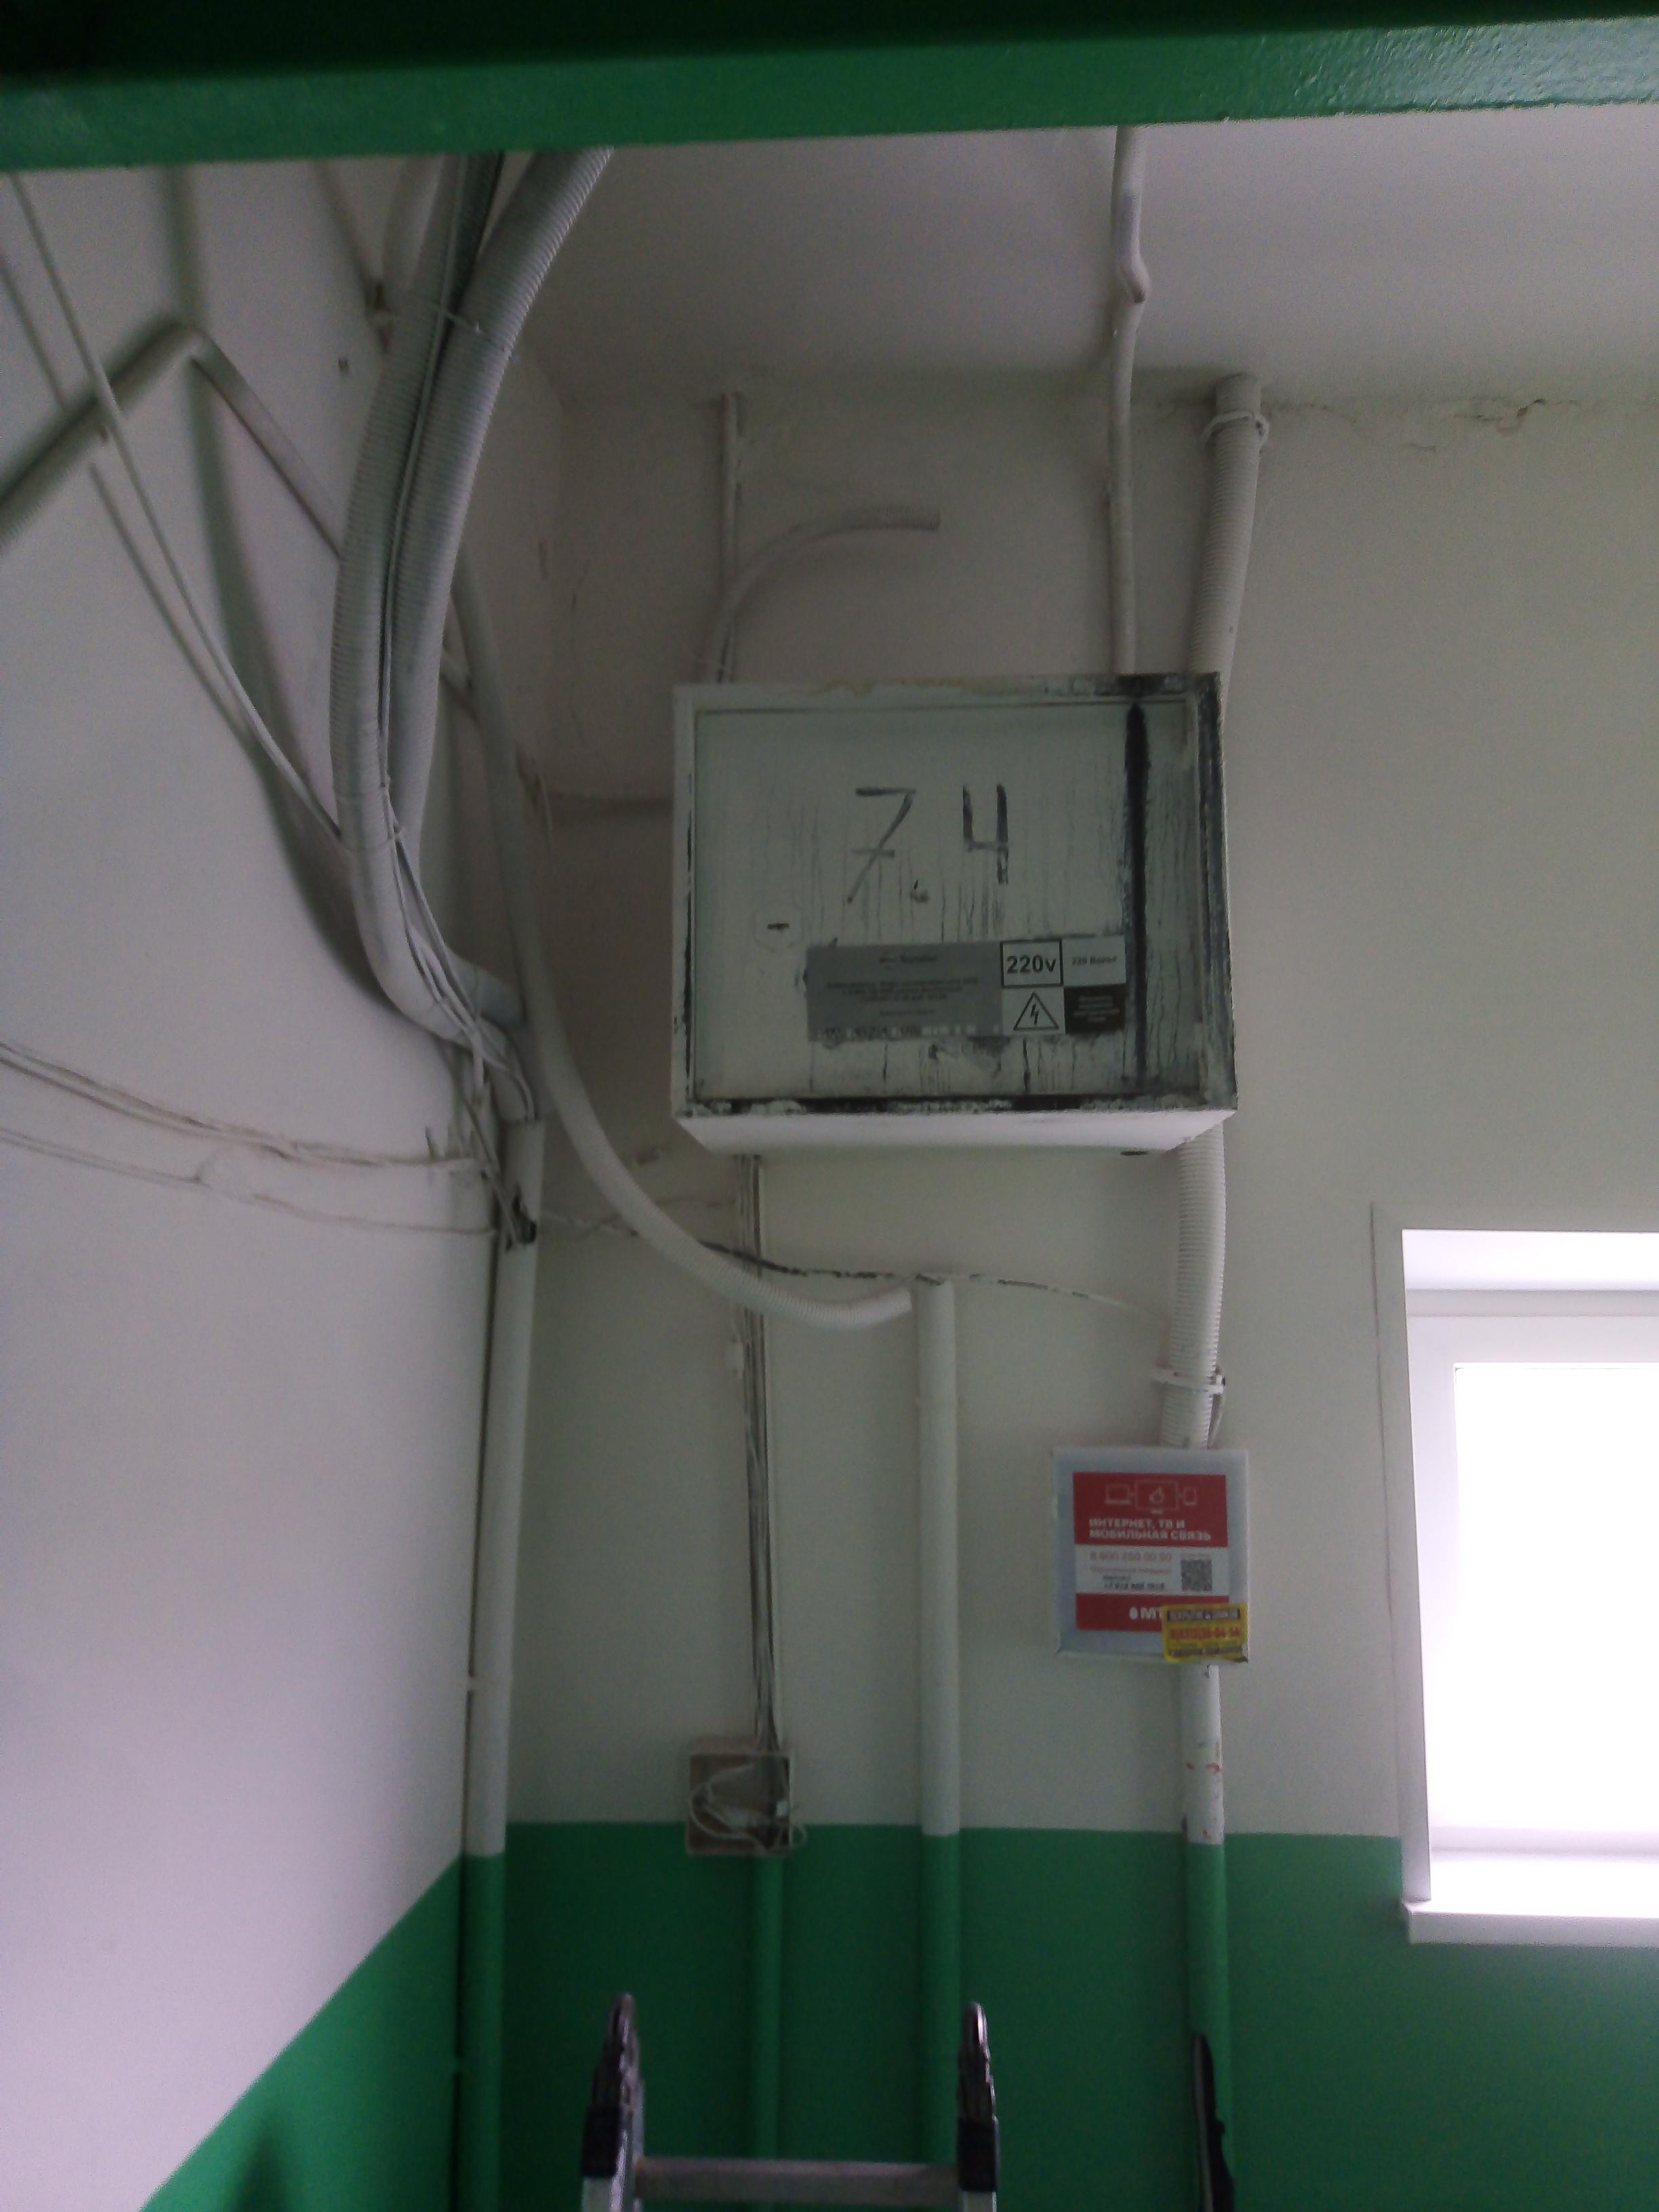shta-9m: (638, 657, 1260, 1174)
